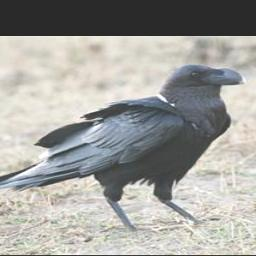Crow: (0, 63, 249, 232)
